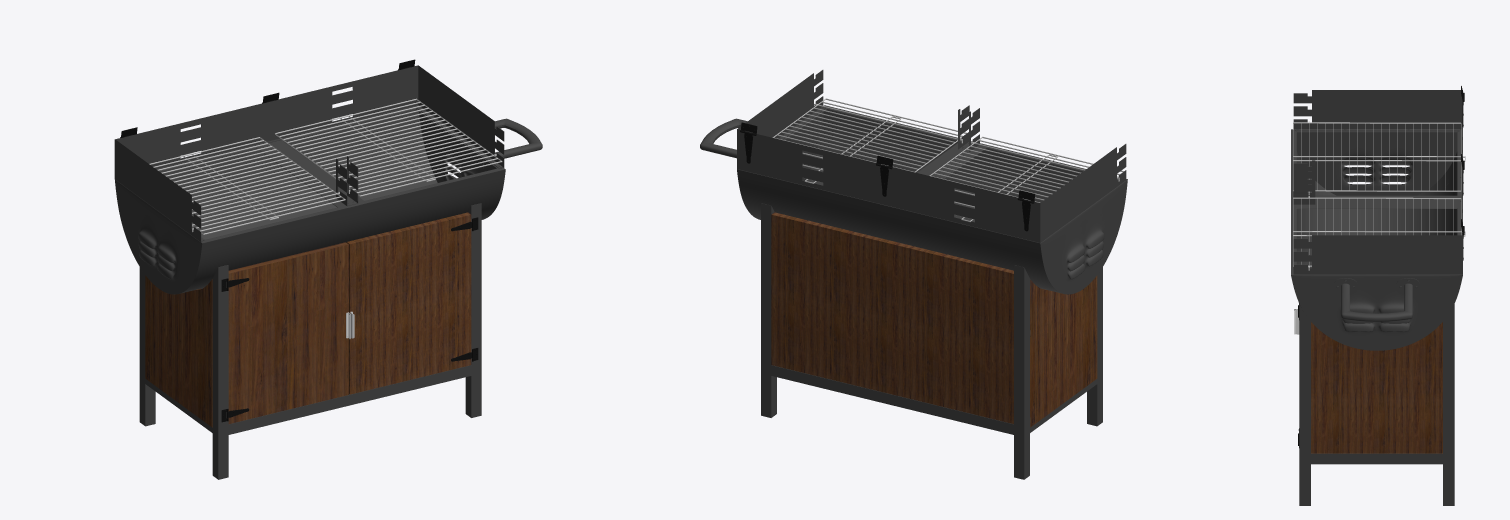
File: parrilla.glb
The picture shows the model from 3 angles, left to right: view 1: azimuth 30°, elevation 25°; view 2: azimuth 150°, elevation 25°; view 3: azimuth 270°, elevation 25°; orthographic projection.
Visible parts, largest first — view 1: BBQ, BBQ.004, Cube.004, Cube.003, Cube.005; view 2: Cube.008, BBQ, BBQ.004, Cube.005; view 3: BBQ, BBQ.004, Cube.006.
Part boxes in pixels (x1,y1,x2,y2): BBQ: (114,65,542,479); BBQ.004: (114,108,505,294); Cube.004: (346,212,471,394); Cube.003: (228,242,348,423); Cube.005: (145,275,212,427); Cube.008: (771,212,1013,423); BBQ: (700,70,1126,479); BBQ.004: (737,105,1127,294); Cube.005: (1030,275,1097,427); BBQ: (1293,90,1465,505); BBQ.004: (1291,129,1462,350); Cube.006: (1311,322,1442,453).
Size of the model in its own units: 2.02 by 1.42 by 0.8254.
Materials: 13 (6 with a texture image).
